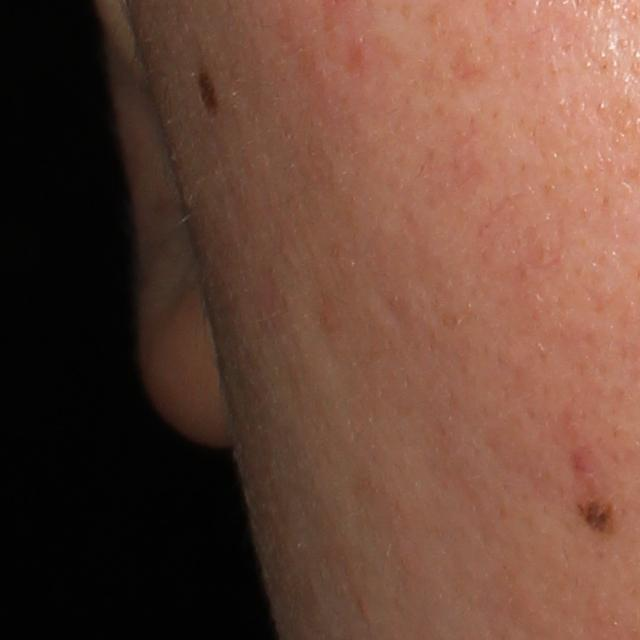nevus: (577, 494, 616, 535), (195, 69, 221, 119)
